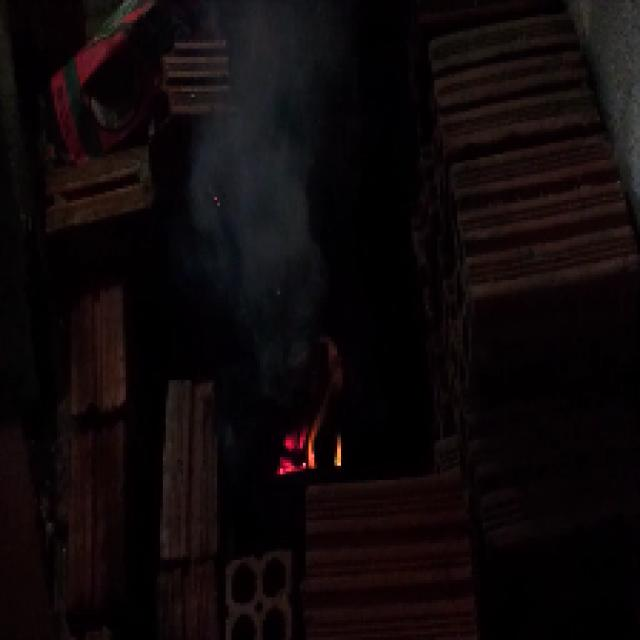smoke: (203, 131, 309, 345), (217, 18, 300, 112)
